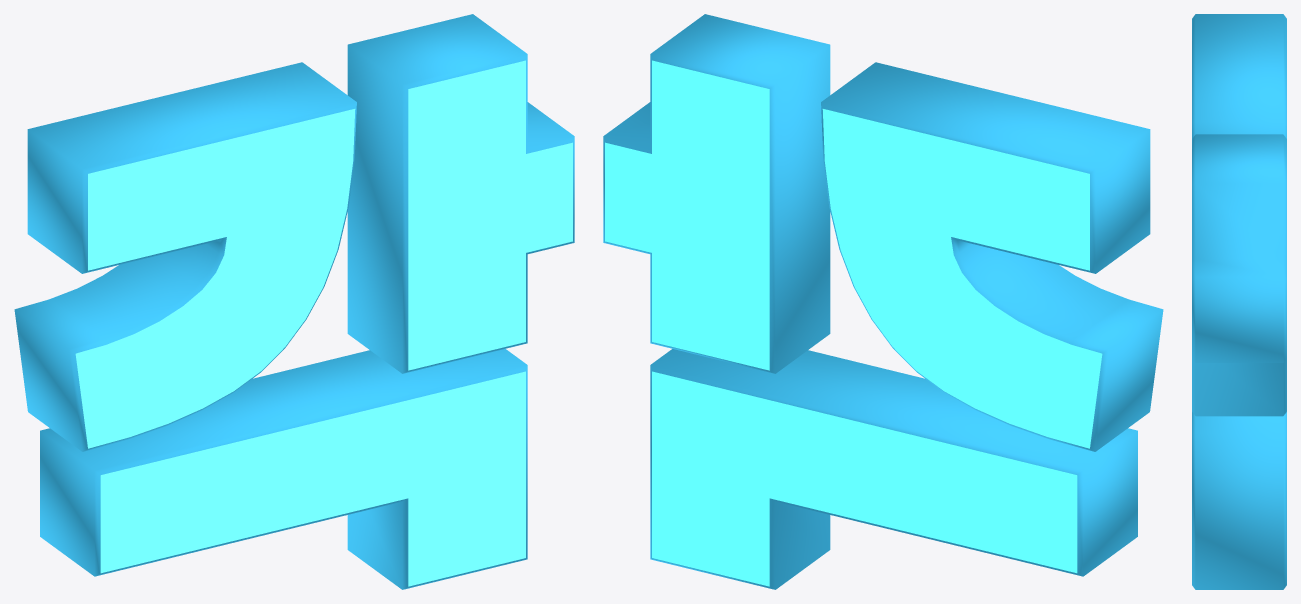
The picture shows the model from 3 angles, left to right: view 1: azimuth 30°, elevation 25°; view 2: azimuth 150°, elevation 25°; view 3: azimuth 270°, elevation 25°; orthographic projection. The views are drawn at different scales.
Visible parts, largest first — view 1: glyph; view 2: glyph; view 3: glyph.
Part boxes in pixels (box(x1,y1,x2,y2)): glyph: box(14, 14, 574, 589); glyph: box(603, 14, 1163, 589); glyph: box(1192, 14, 1286, 589).
Size of the model in its own units: 0.0802 by 0.0766 by 0.0162.
